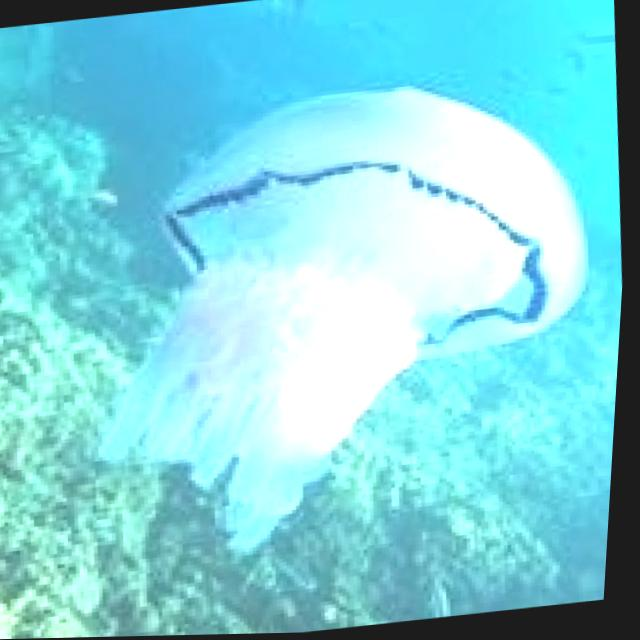Box-jellyfish: (69, 64, 627, 574)
